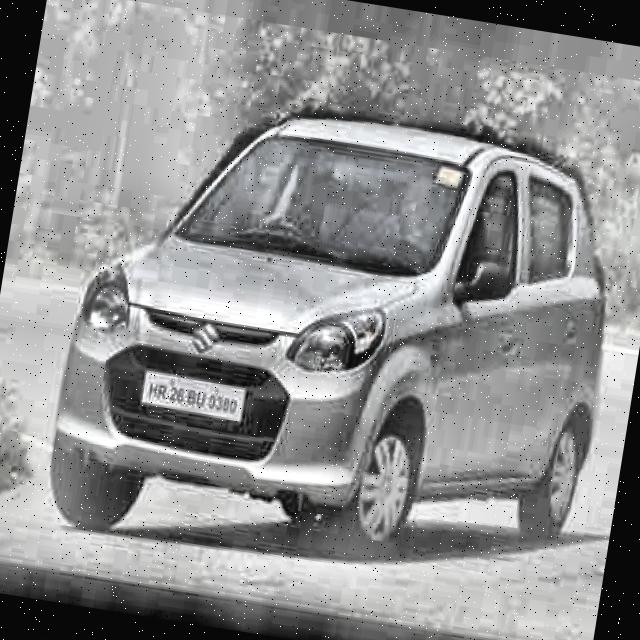license_plate: (137, 368, 250, 422)
